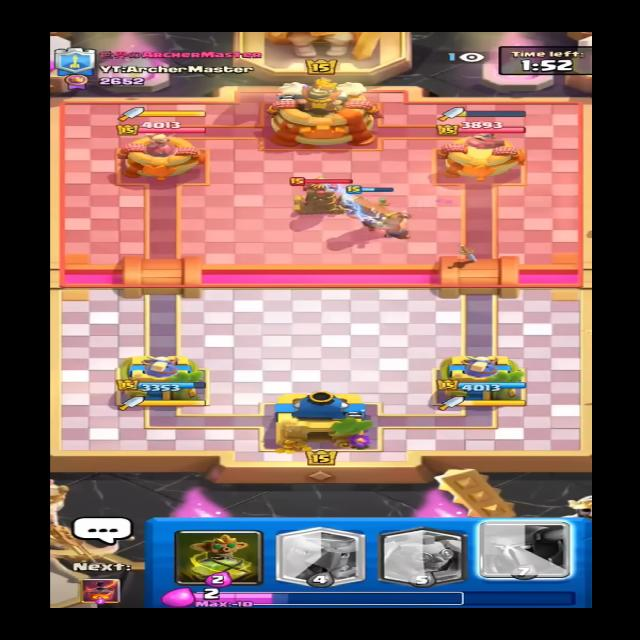tesla: (283, 176, 358, 220)
